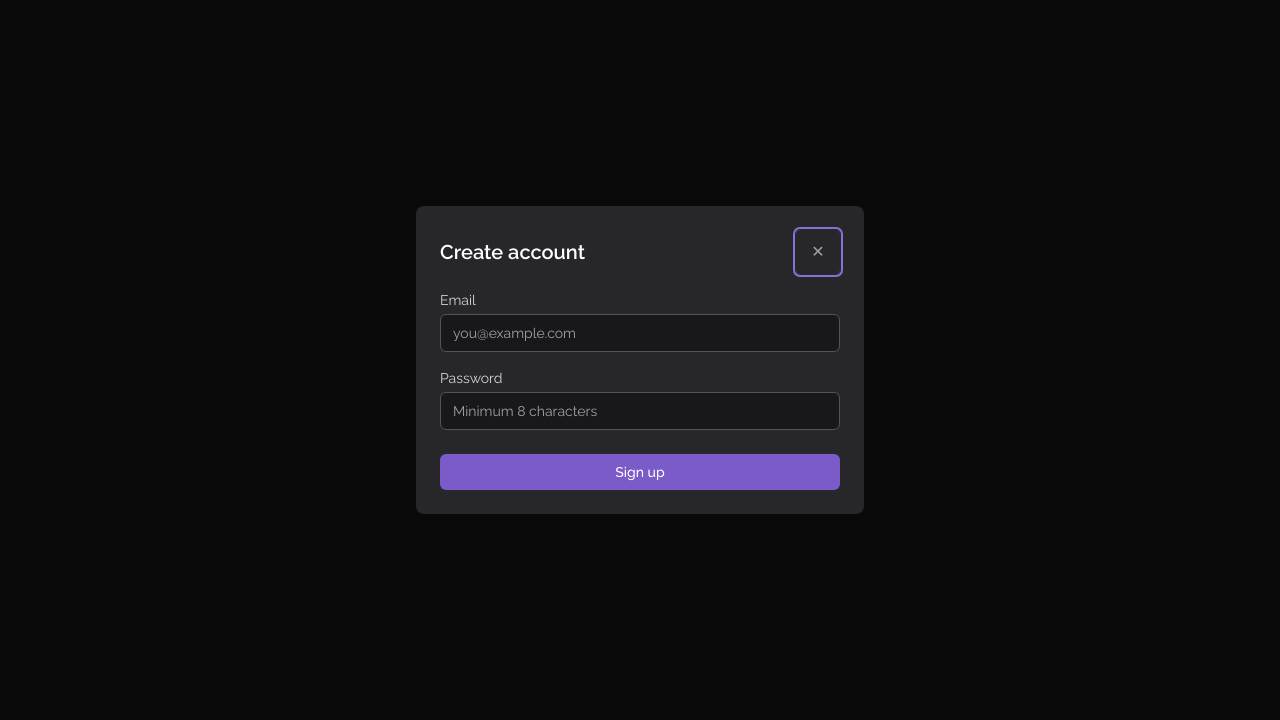
Test case: SignUpModal › shows an email validation error when the email is empty on submit
Click the button "Sign up" at [640, 472], box [440,454,840,490]
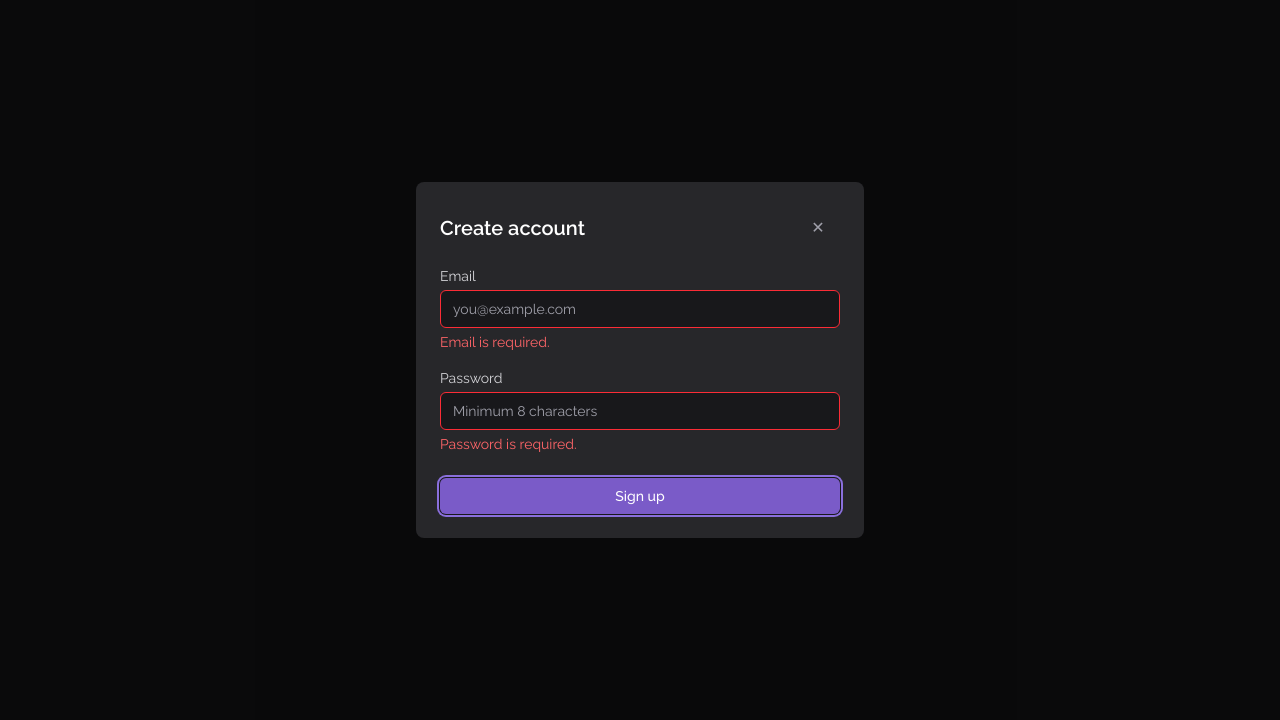
Check: the text "Email is required." is shown, box [440,334,550,350]
